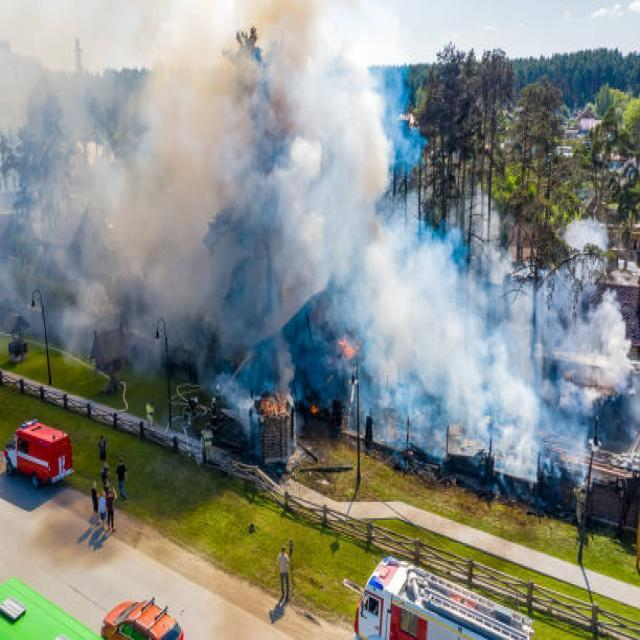Fire: (339, 332, 363, 359), (310, 400, 322, 413)
Smoke: (38, 13, 548, 467)
